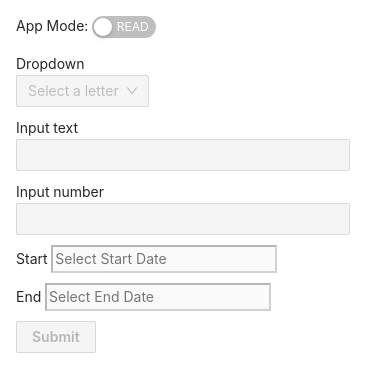
Test: Form › toggles correctly the app state: READ and EDIT when toggling
Expected: the text "EDIT" is not shown
Expected: the text "READ" is shown, [117,16,149,38]
Click the switch with test id "appToggle": (124, 27) [92,16,156,38]
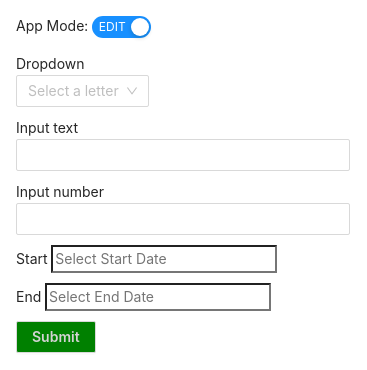
Result: the switch "READ" is gone
Result: the text "EDIT" is shown at [99,16,126,38]
